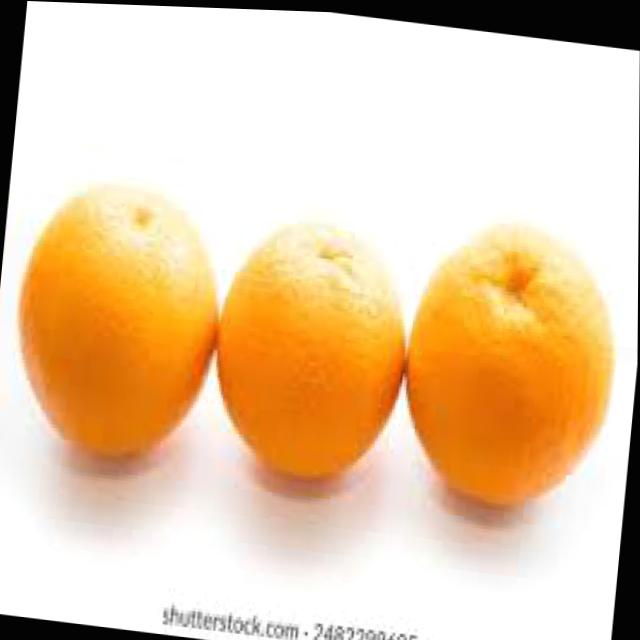orange: (392, 203, 626, 513), (3, 166, 232, 470), (205, 202, 417, 487)
